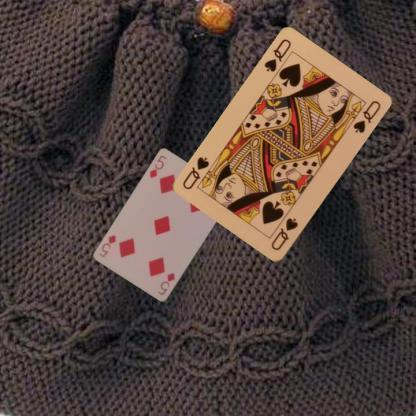5d: (146, 152, 168, 180), (154, 270, 176, 297)
Qs: (268, 214, 299, 252), (262, 36, 292, 74)
